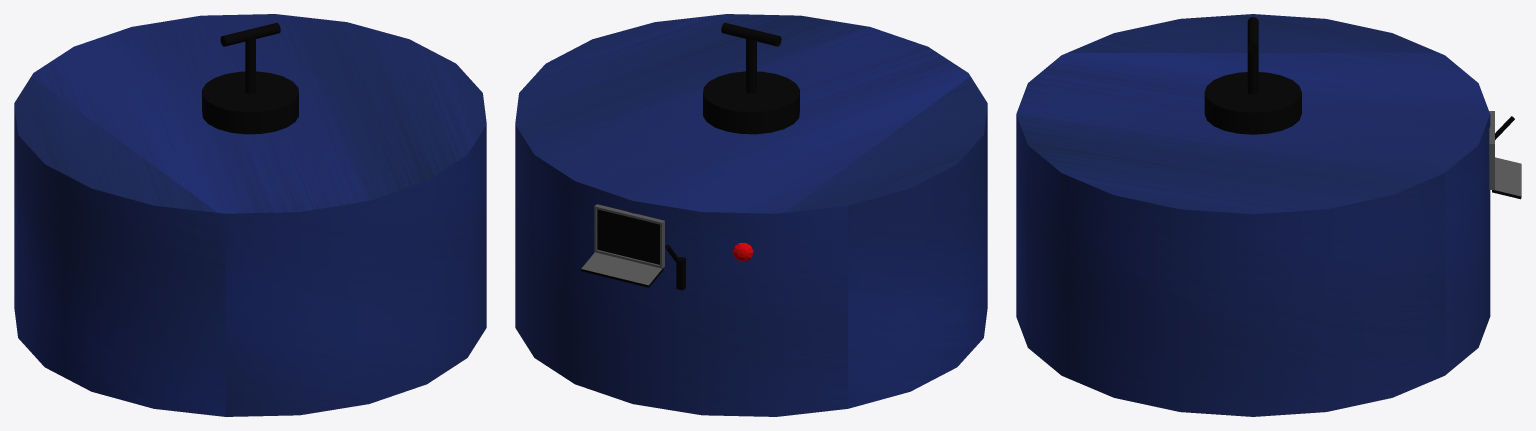
The model's file is Pump (2).fbx.
The picture shows the model from 3 angles, left to right: view 1: azimuth 30°, elevation 25°; view 2: azimuth 150°, elevation 25°; view 3: azimuth 270°, elevation 25°; orthographic projection.
Visible parts, largest first — view 1: polySurface108; view 2: polySurface108; view 3: polySurface108.
Boxes of the visible parts, x1=… form: polySurface108: x1=14, y1=14, x2=486, y2=416; polySurface108: x1=515, y1=14, x2=987, y2=416; polySurface108: x1=1016, y1=14, x2=1521, y2=416.
Size of the model in its own units: 9.74 by 6.5 by 10.39.
Materials: 5 (1 with a texture image).
